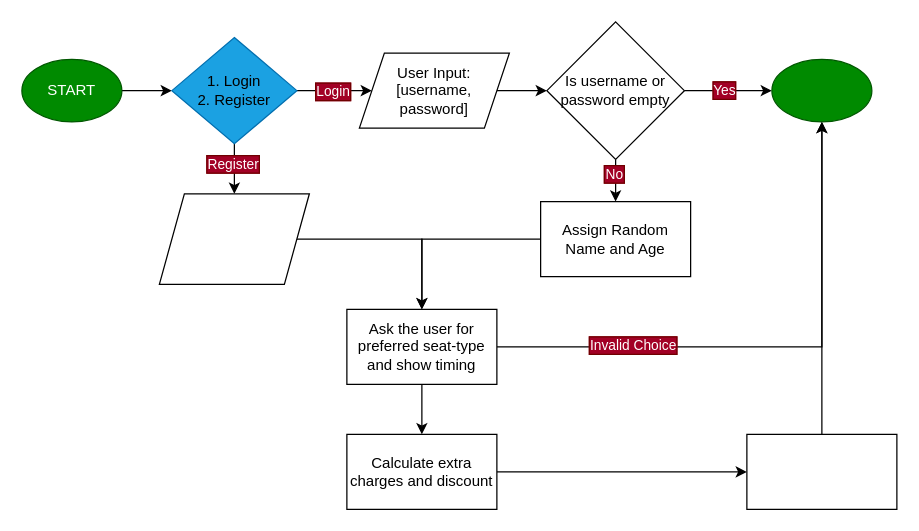
Image size: 919x531. Some labels were removed from this diagram. The box of each missing label's shape, as (x1, y1, x2, y2) in pixels:
Calculate total price, Display the ticket: (746, 433, 897, 509)
END: (771, 58, 872, 122)
User Input: [name, age, username, password]: (158, 192, 309, 284)
